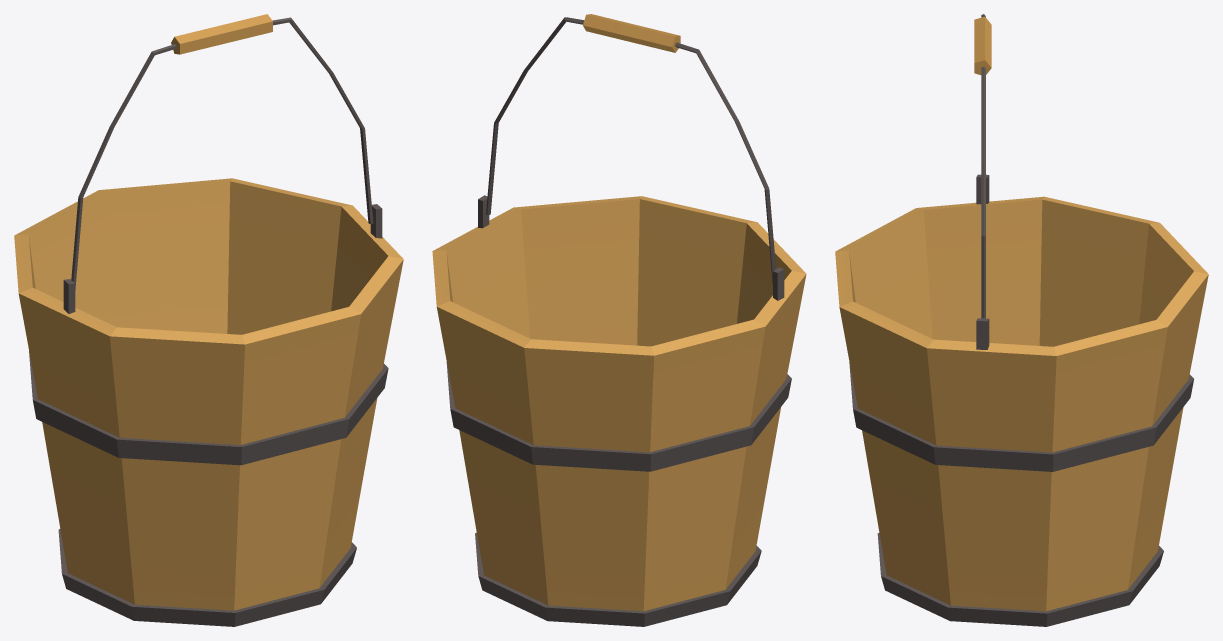
Rendered from Bucket.fbx.
The picture shows the model from 3 angles, left to right: view 1: azimuth 30°, elevation 25°; view 2: azimuth 150°, elevation 25°; view 3: azimuth 270°, elevation 25°; orthographic projection. The views are drawn at different scales.
Visible parts, largest first — view 1: Bucket; view 2: Bucket; view 3: Bucket.
Part boxes in pixels (x1,y1,x2,y2): Bucket: (14,14,403,626); Bucket: (432,14,806,626); Bucket: (835,14,1208,626).
Size of the model in its own units: 44.98 by 69.7 by 44.55.
